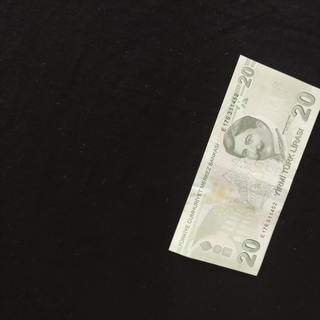20TLBack: (168, 54, 320, 276)
